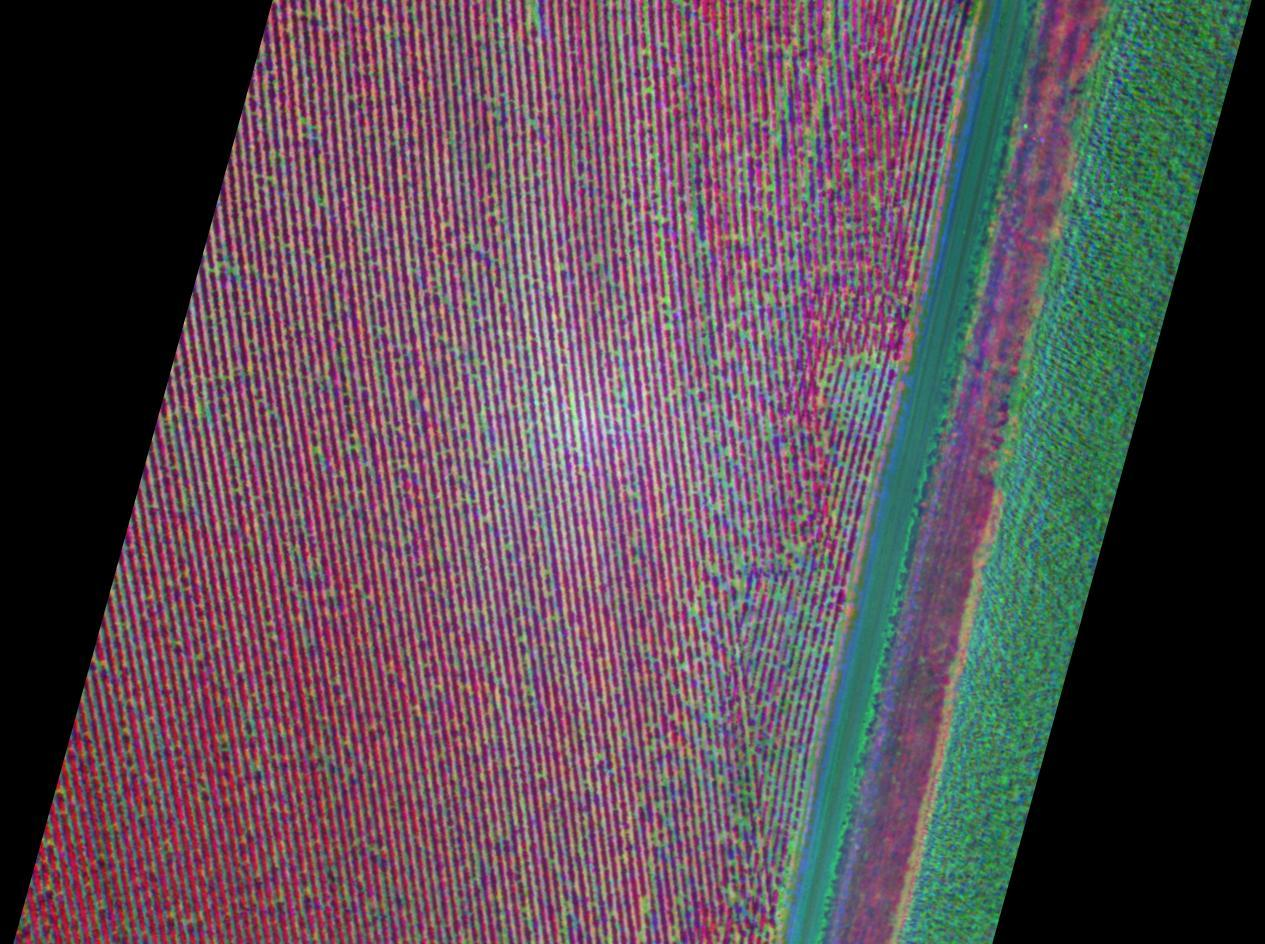dc: (657, 215, 661, 220), (535, 17, 538, 23), (643, 905, 647, 909), (300, 119, 303, 123), (790, 845, 793, 849), (649, 88, 652, 92), (526, 908, 529, 912), (195, 656, 198, 659)
